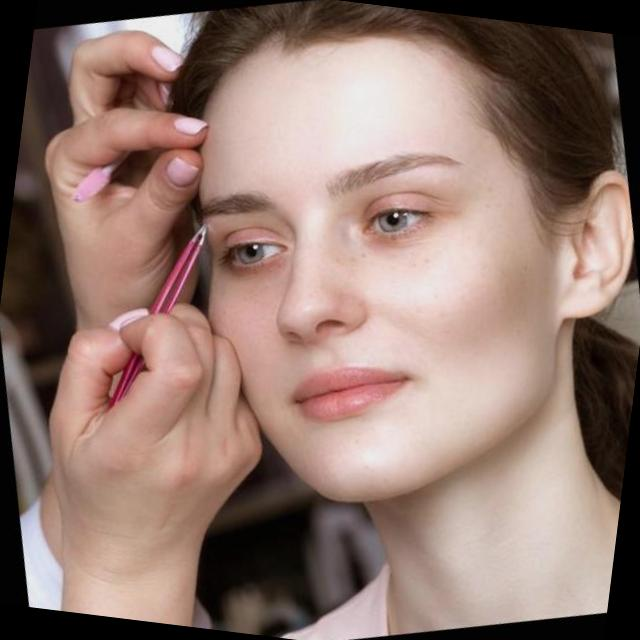freckle: (288, 215, 478, 330), (454, 163, 548, 287)
